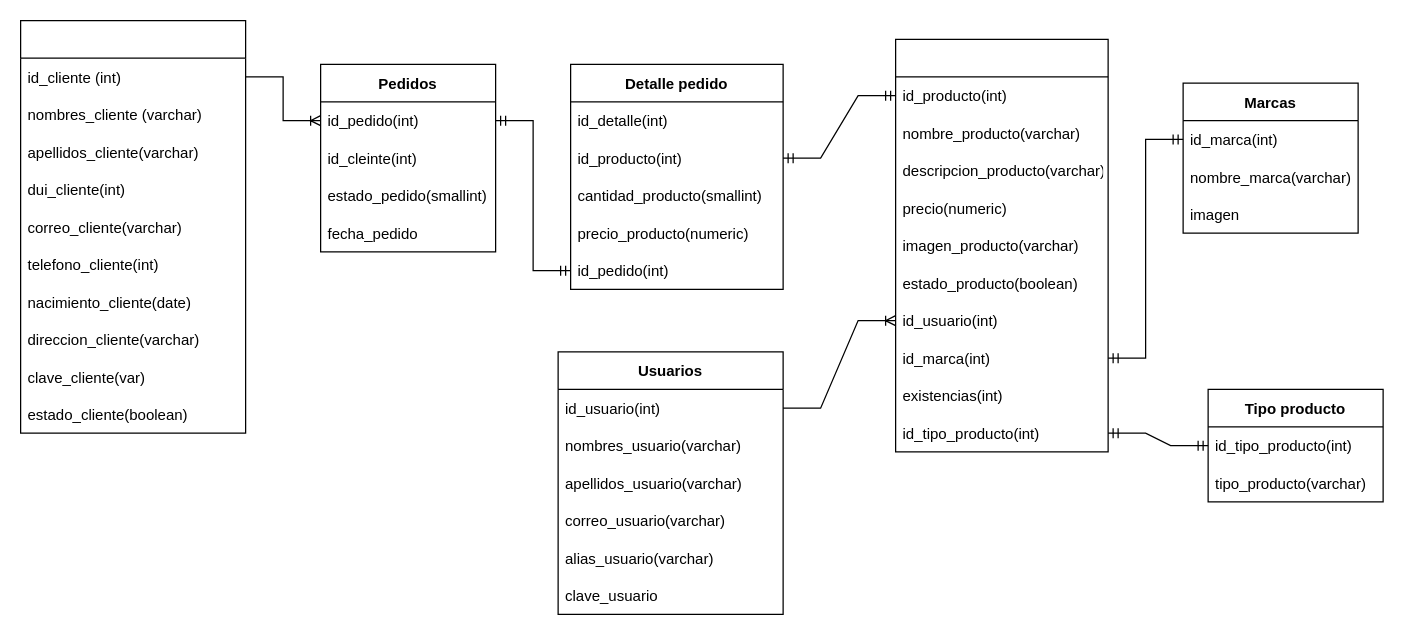
The diagram is 1404 pixels wide and 635 high, and some of its shapes have lost their labels. Here are the shapes that lost their labels. From the top down, the box of each, then its label:
(19, 19, 246, 433): Clientes
(894, 38, 1108, 452): Productos
